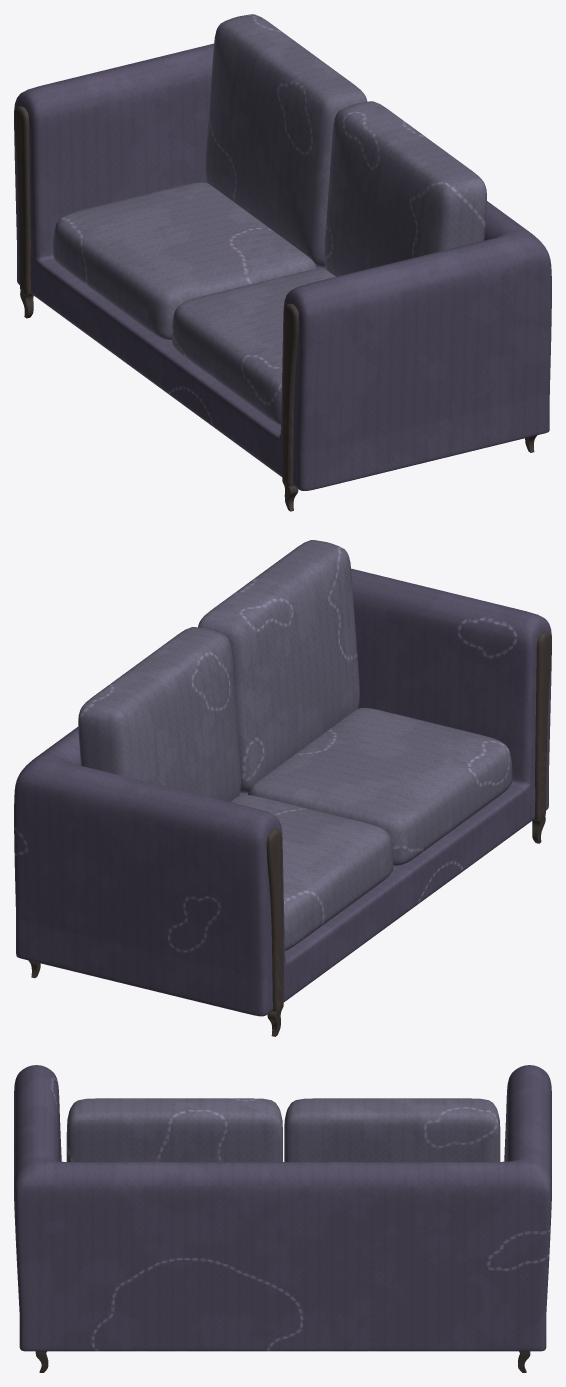
File: Couch_Sad.fbx
3 renders of one model, top to bottom at view 1: azimuth 30°, elevation 25°; view 2: azimuth 150°, elevation 25°; view 3: azimuth 270°, elevation 25°, orthographic. The views are drawn at different scales.
Visible parts, largest first — view 1: Couch_01; view 2: Couch_01; view 3: Couch_01.
Boxes of the visible parts, box(x1,y1,x2,y2) form: Couch_01: box(14, 14, 551, 511); Couch_01: box(14, 540, 551, 1036); Couch_01: box(14, 1065, 551, 1372).
Size of the model in its own units: 99.53 by 101 by 199.
